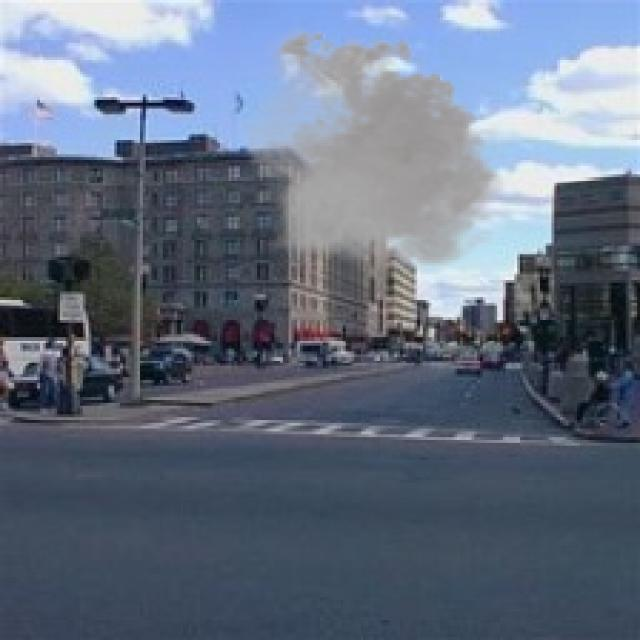smoke: (232, 23, 514, 277)
